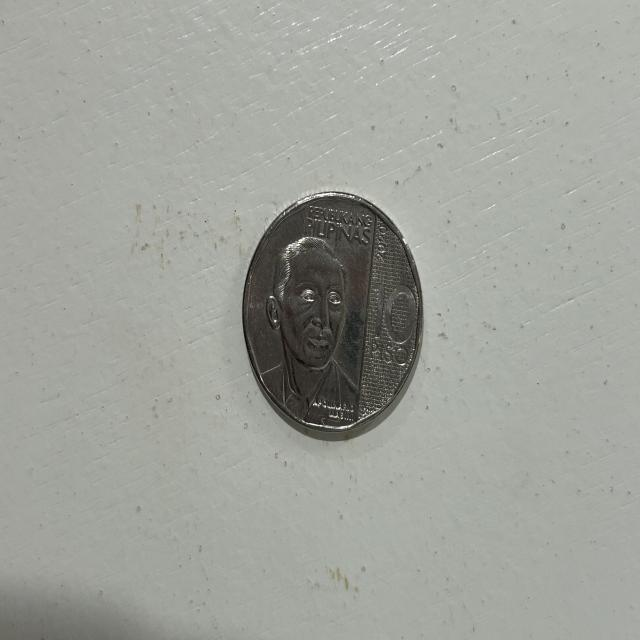10_New_Front: (262, 208, 410, 417)
